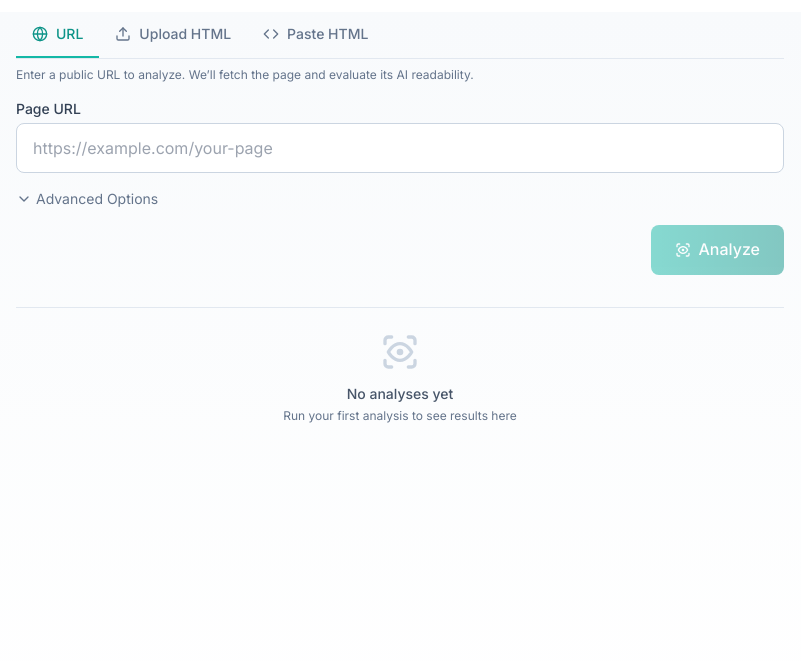
Test: ReadabilityInputScreen › switches to paste tab on click
What coordinates should you click on to do the following:
click the tab "Paste HTML"
I would click on:
 (316, 35)
Its box is [247, 12, 384, 58].
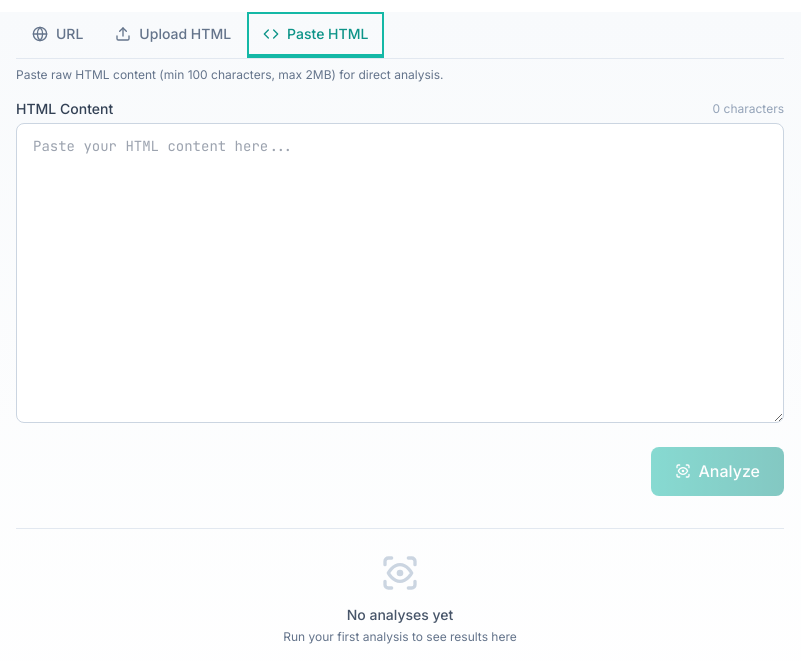
Result: the text box labelled "HTML Content" is shown at [16, 123, 784, 423]
